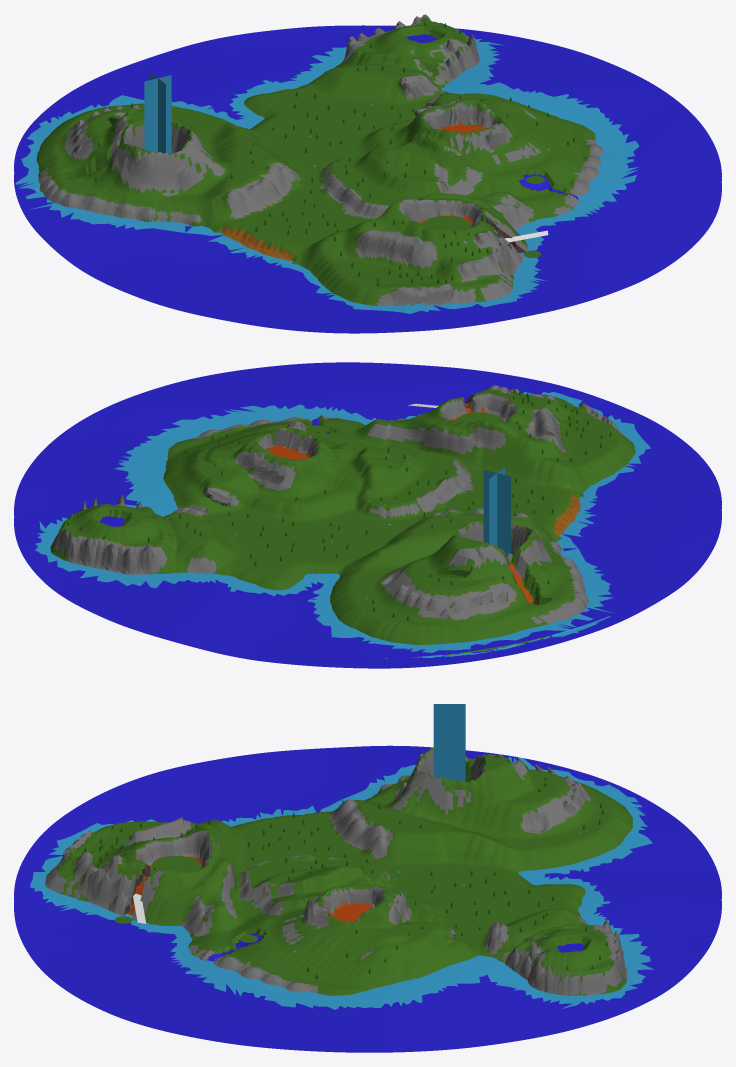
File: island21.glb
3 views of the same model, one above another, from view 1: azimuth 30°, elevation 25°; view 2: azimuth 150°, elevation 25°; view 3: azimuth 270°, elevation 25° (orthographic).
Visible parts, largest first — view 1: Island, Ocean, SubOcean, SmokePlane1, SmokePlane2, Lava Circle; view 2: Island, Ocean, SubOcean, SmokePlane1, SmokePlane2; view 3: Island, Ocean, SubOcean, SmokePlane2, Lava Circle.
Part boxes in pixels (x1,y1,x2,y2): Island: (36, 14, 603, 306); Ocean: (14, 25, 721, 322); SubOcean: (14, 174, 721, 333); SmokePlane1: (144, 75, 171, 153); SmokePlane2: (150, 72, 165, 152); Lava Circle: (421, 215, 470, 230); Island: (50, 385, 635, 659); Ocean: (14, 362, 721, 657); SubOcean: (14, 511, 721, 668); SmokePlane1: (483, 470, 510, 556); SmokePlane2: (489, 467, 504, 545); Island: (45, 747, 632, 995); Ocean: (14, 745, 721, 1041); SubOcean: (14, 901, 721, 1052); SmokePlane2: (433, 704, 465, 781); Lava Circle: (151, 856, 200, 872).
Size of the model in its own units: 16.2 by 3.12 by 16.2.
